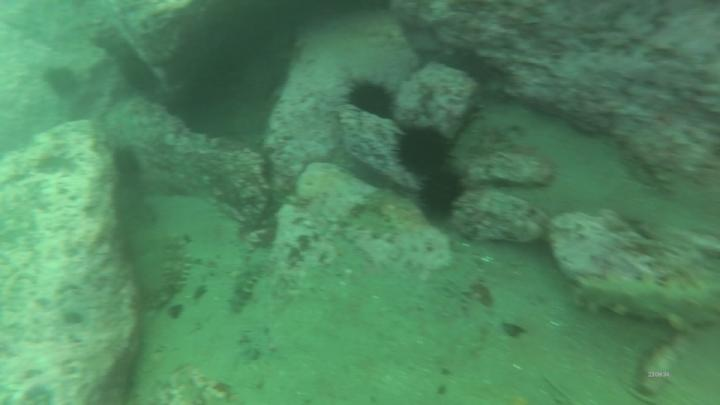echinus: (392, 126, 458, 178), (412, 172, 471, 220), (342, 77, 398, 122), (45, 67, 78, 101), (114, 140, 143, 178)
holothurian: (574, 270, 720, 333), (153, 235, 192, 310), (234, 265, 266, 311)
